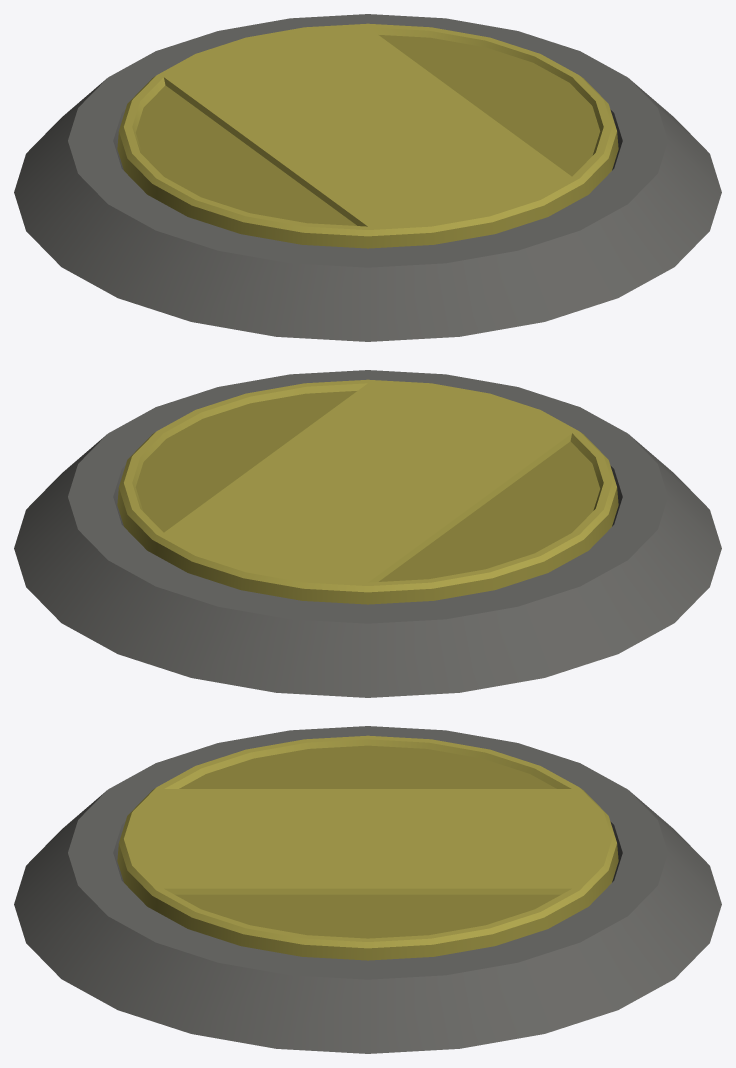
3 views of the same model, one above another, from view 1: azimuth 30°, elevation 25°; view 2: azimuth 150°, elevation 25°; view 3: azimuth 270°, elevation 25° (orthographic).
Parts seen in each view (by area): view 1: pCylinder22; view 2: pCylinder22; view 3: pCylinder22.
Part boxes in pixels (<box>): pCylinder22: <box>14,14,721,341</box>; pCylinder22: <box>14,370,721,697</box>; pCylinder22: <box>14,726,721,1053</box>.
Bounding box in the file's own units: 3972 × 405 × 3972.
